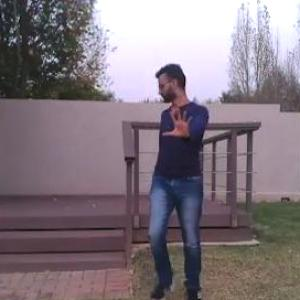follow_hand: (160, 105, 197, 141)
